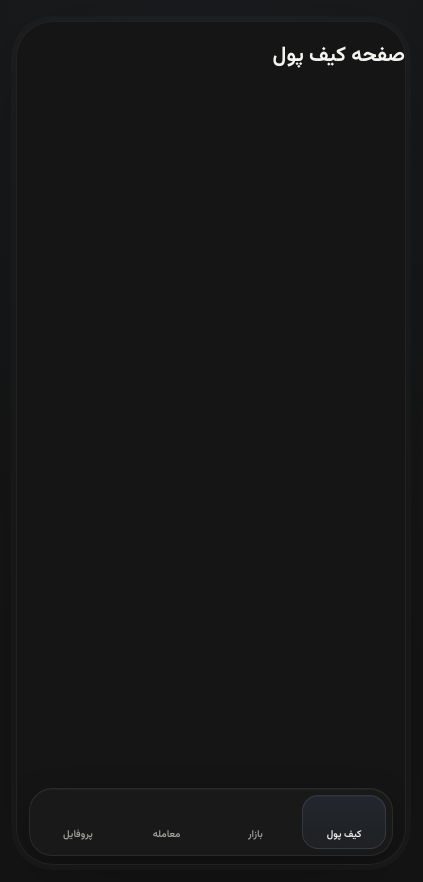
Scenario: wallet UI interactions › keeps the bottom tabs available and navigates to the market
The image size is (423, 882).
Click the link "بازار" at (255, 834), box left=248, top=827, right=263, bottom=842
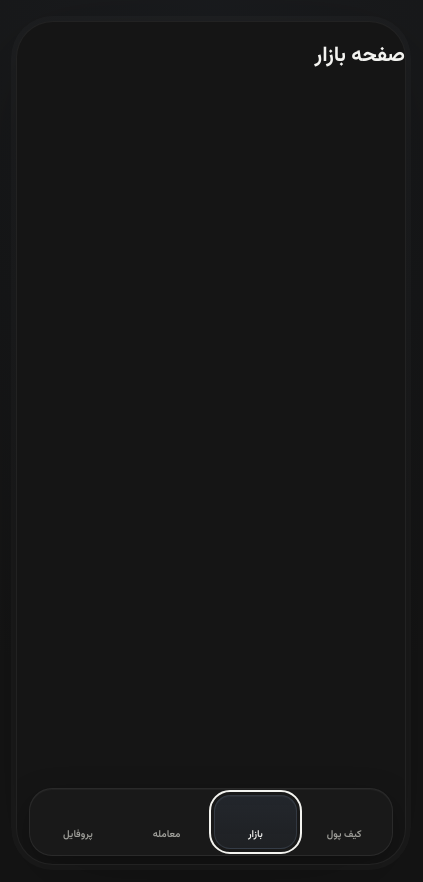
Result: the heading "صفحه بازار" is shown at left=315, top=39, right=405, bottom=72
